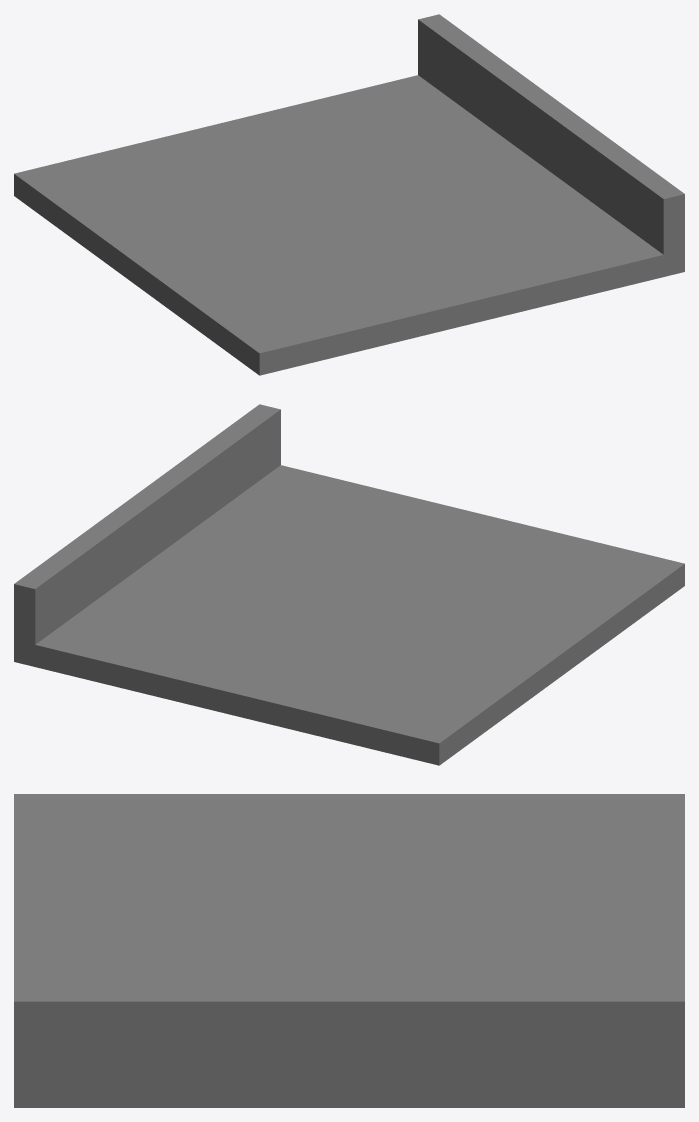
The model's file is GreyRoof_1Edge.glb.
The picture shows the model from 3 angles, top to bottom: view 1: azimuth 30°, elevation 25°; view 2: azimuth 150°, elevation 25°; view 3: azimuth 270°, elevation 25°; orthographic projection. The views are drawn at different scales.
Parts seen in each view (by area): view 1: roof_flat_1Edge_grey; view 2: roof_flat_1Edge_grey; view 3: roof_flat_1Edge_grey.
Part boxes in pixels (left/top/right/bottom): roof_flat_1Edge_grey: left=14, top=14, right=684, bottom=375; roof_flat_1Edge_grey: left=14, top=404, right=684, bottom=765; roof_flat_1Edge_grey: left=14, top=794, right=684, bottom=1107.
Size of what is drawn, in the model's own units: 4 by 0.7 by 4.
1 material, 1 textured.
